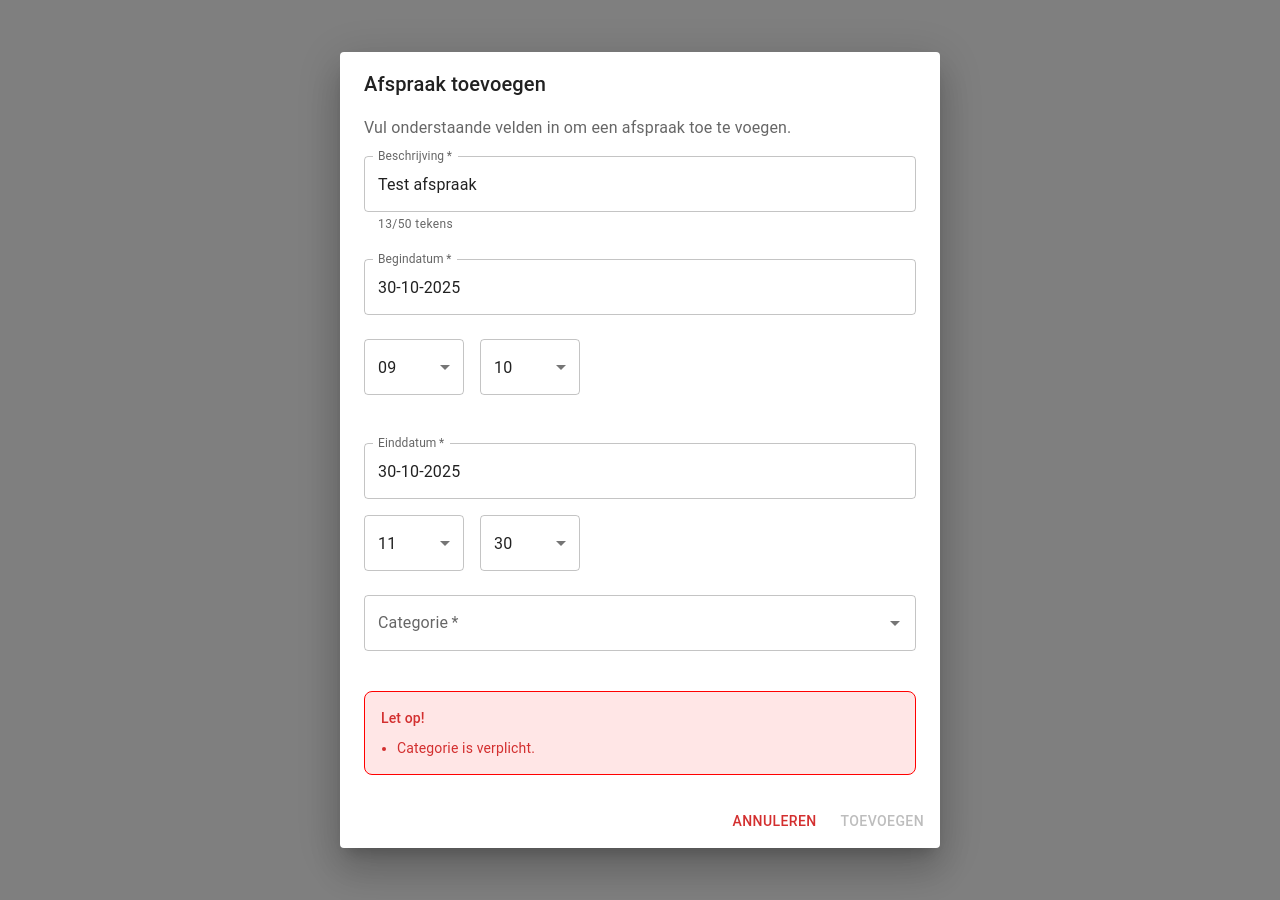
Test: AddDatePickerEventModal - Categorie vereist › Knop wordt enabled na selectie van categorie
Check: the button "Toevoegen" is disabled, box [832, 803, 932, 840]
selecteer de categorie via autocomplete
Type "Bloedonderzoek" into the dropdown labelled "Categorie *".
click(625, 623); type("Bloedonderzoek")  # box [373, 604, 877, 642]
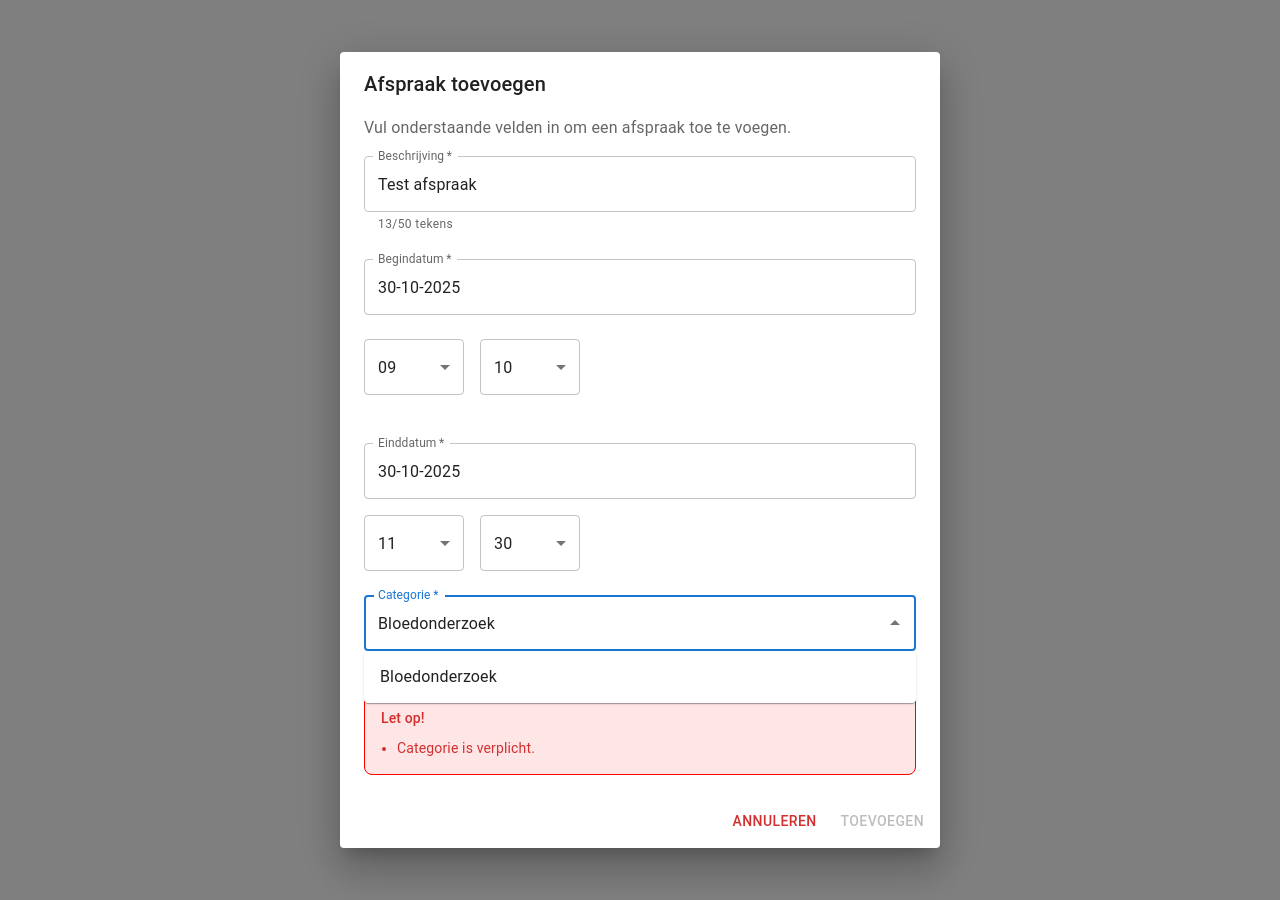
Press Arrowdown Enter
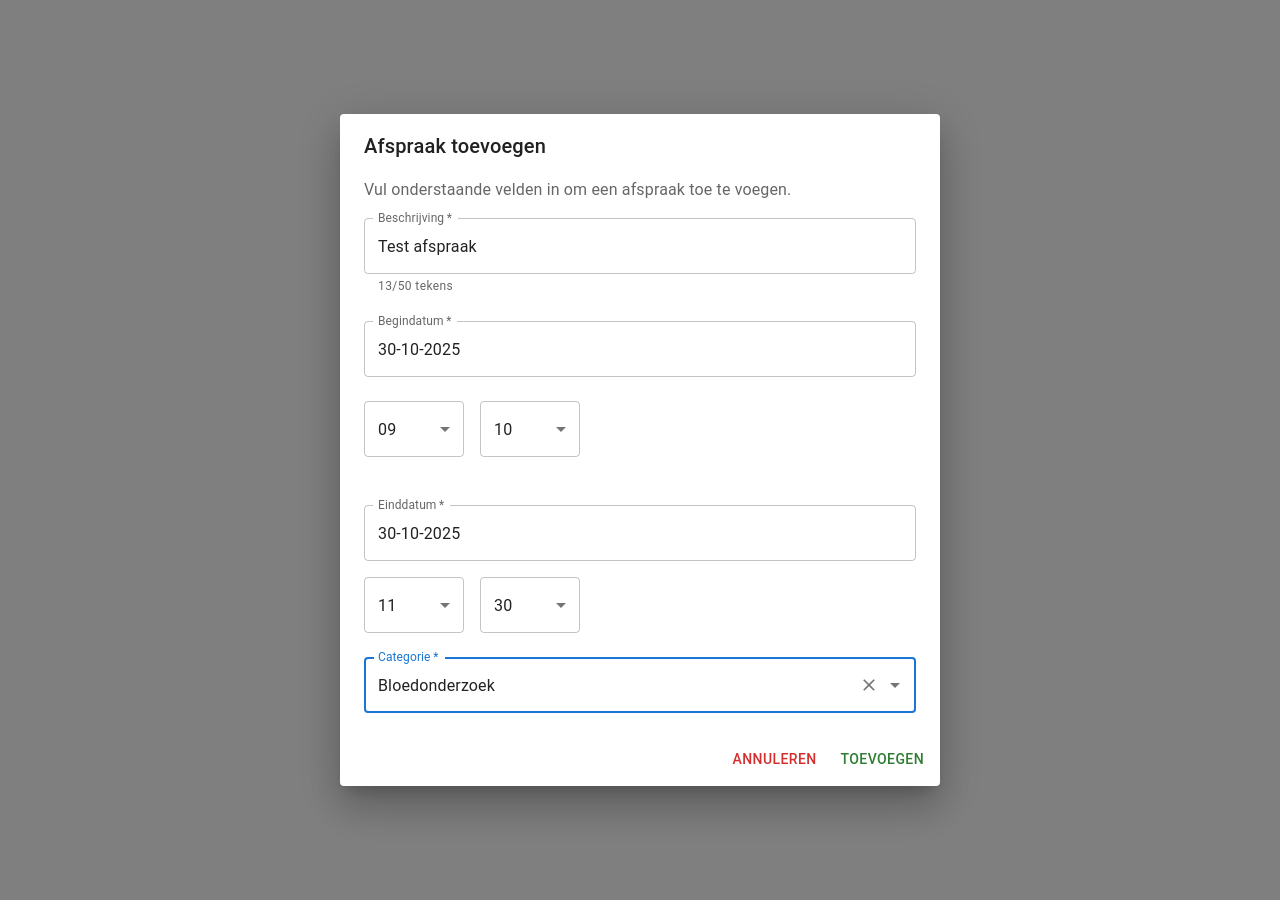
Check: the button "Toevoegen" is enabled, box [832, 741, 932, 778]
